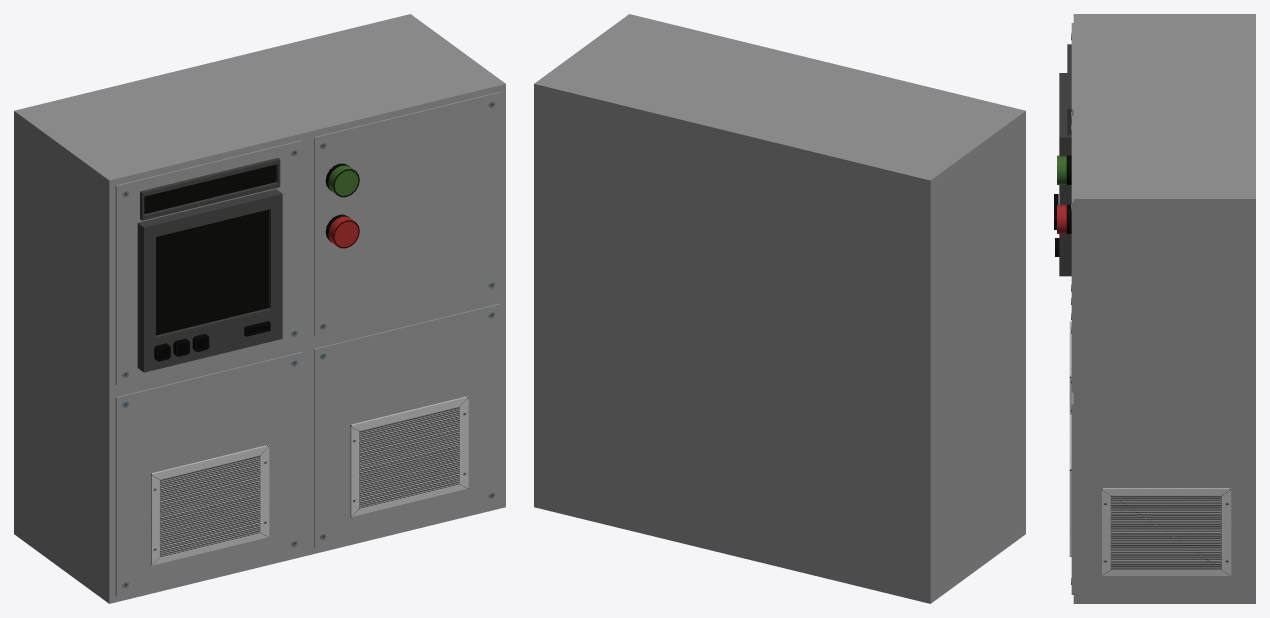
The model's file is Shkaf.glb.
3 views of the same model, side by side, from view 1: azimuth 30°, elevation 25°; view 2: azimuth 150°, elevation 25°; view 3: azimuth 270°, elevation 25° (orthographic). The views are drawn at different scales.
Visible parts, largest first — view 1: Shkaf, LightIndicatorGreen, LightIndicatorRed; view 2: Shkaf; view 3: Shkaf, LightIndicatorGreen, LightIndicatorRed.
Boxes of the visible parts, bbox=[...] form: Shkaf: bbox=[14, 14, 505, 603]; LightIndicatorGreen: bbox=[325, 163, 359, 197]; LightIndicatorRed: bbox=[325, 214, 359, 248]; Shkaf: bbox=[534, 14, 1025, 603]; Shkaf: bbox=[1054, 14, 1255, 603]; LightIndicatorGreen: bbox=[1057, 155, 1071, 184]; LightIndicatorRed: bbox=[1057, 204, 1071, 233].
Bounding box in the file's own units: 2.41 × 2.45 × 1.11.
Materials: 5 (4 with a texture image).
